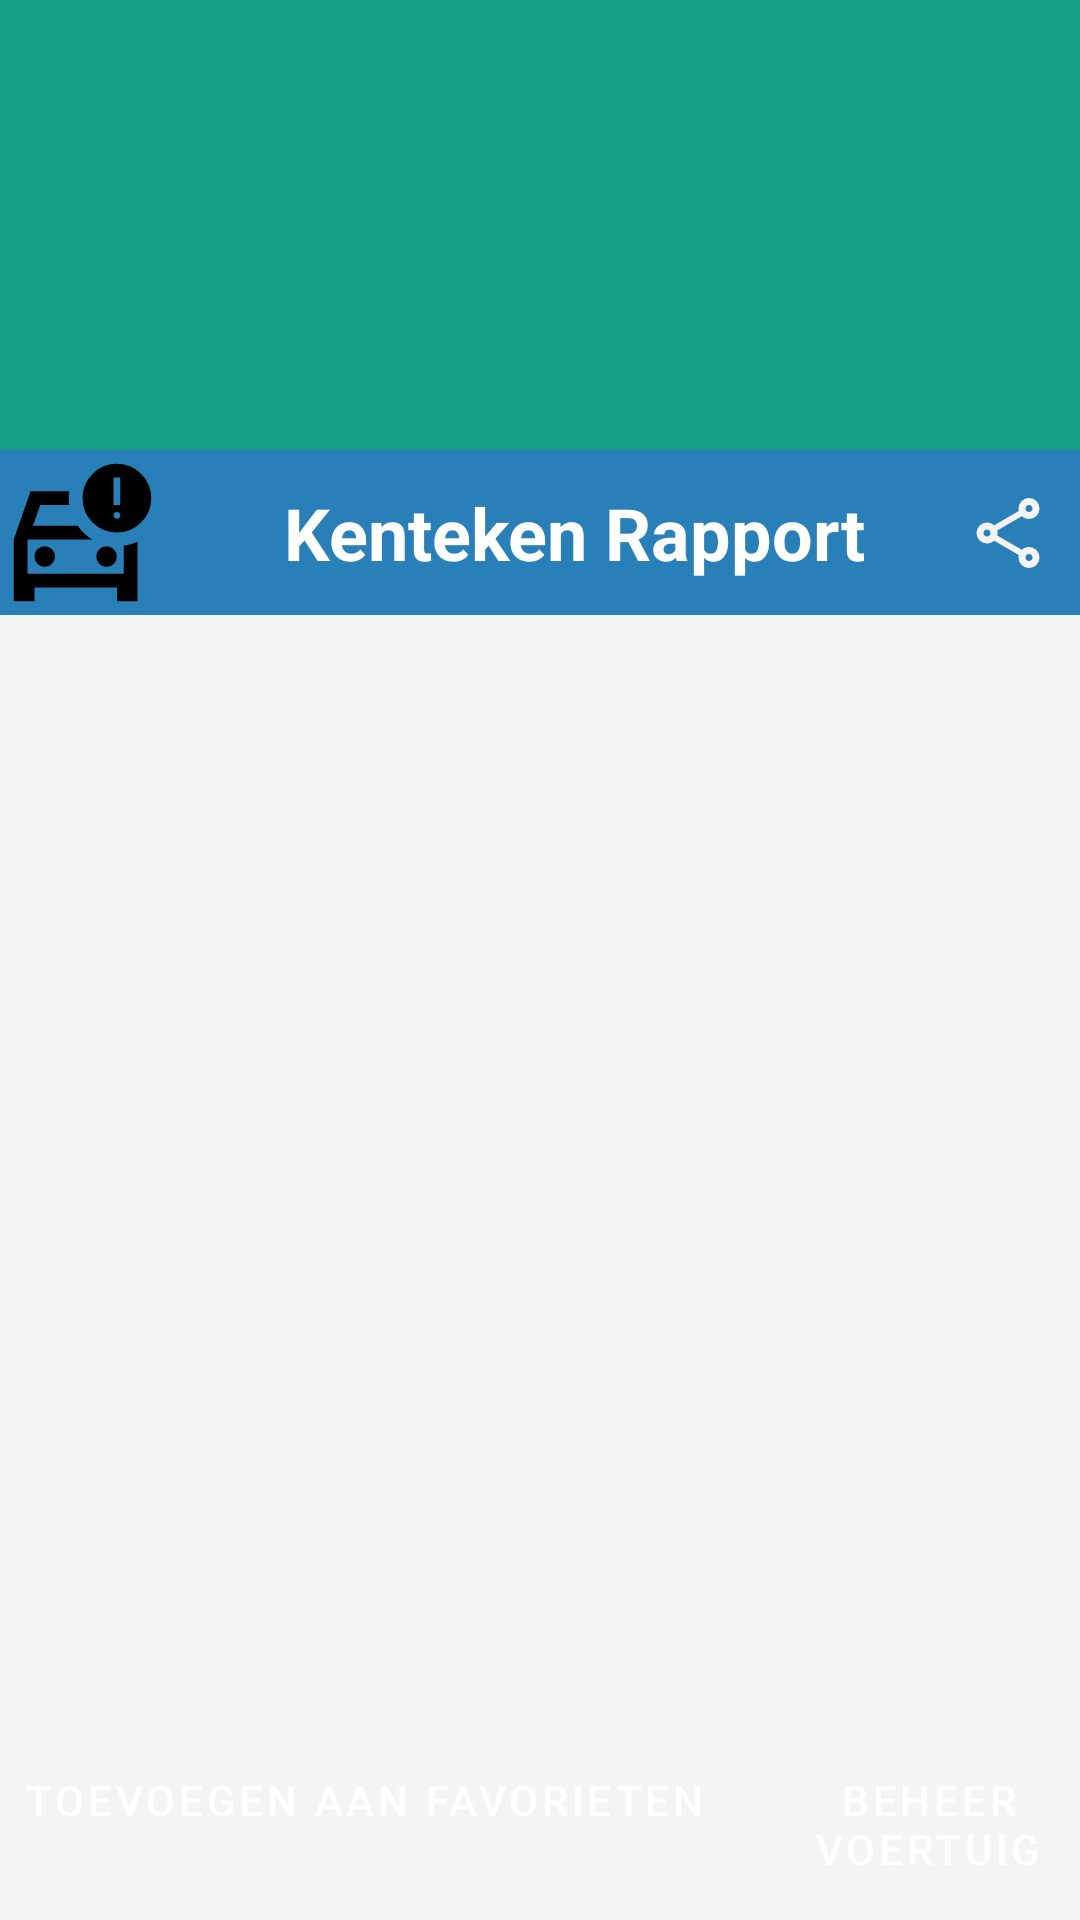

Locate icon controls on the screen. Image size 1080 x 1920, boxes as Rect(x1, y1, x2, y2).
Delen: Rect(976, 498, 1040, 568)
